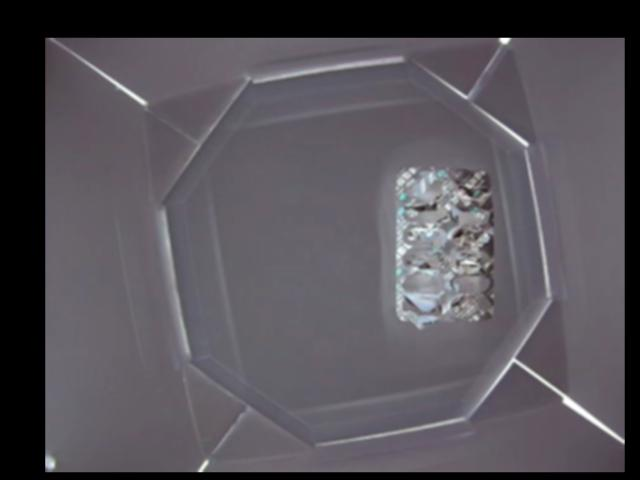Medicine: (395, 163, 497, 325)
